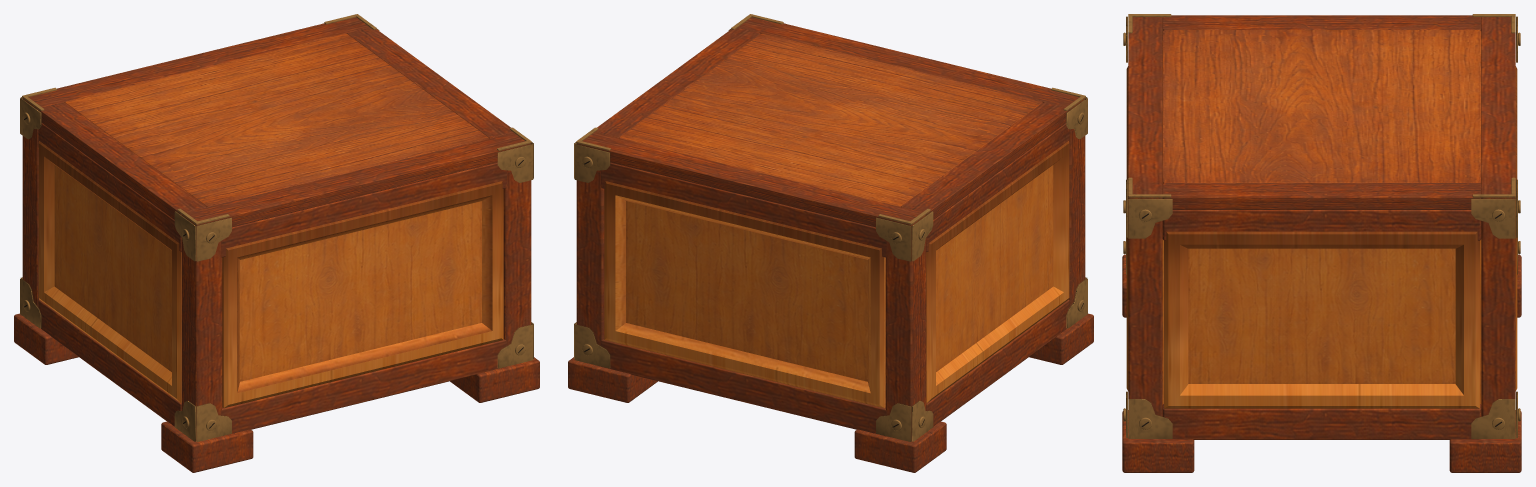
The model's file is chapter3_support_box_pbr.glb.
3 renders of one model, left to right at view 1: azimuth 30°, elevation 25°; view 2: azimuth 150°, elevation 25°; view 3: azimuth 270°, elevation 25°, orthographic. The views are drawn at different scales.
Visible parts, largest first — view 1: InsetPanels_panel, Top_top, TimberFrame_frame, PanelMoldings_molding, Top_frame, CopperProtectors_copper, Feet_frame, Screws_copper; view 2: InsetPanels_panel, Top_top, TimberFrame_frame, PanelMoldings_molding, Top_frame, CopperProtectors_copper, Feet_frame, Screws_copper; view 3: Top_top, InsetPanels_panel, TimberFrame_frame, Top_frame, PanelMoldings_molding, CopperProtectors_copper, Feet_frame, Screws_copper, Body_panel.
Boxes of the visible parts, box(x1,y1,x2,y2) form: InsetPanels_panel: box(54, 165, 481, 381); Top_top: box(65, 33, 488, 206); TimberFrame_frame: box(22, 123, 531, 440); PanelMoldings_molding: box(38, 141, 503, 408); Top_frame: box(22, 17, 531, 234); CopperProtectors_copper: box(20, 14, 533, 441); Feet_frame: box(14, 313, 539, 472); Screws_copper: box(23, 112, 525, 430); InsetPanels_panel: box(626, 165, 1053, 381); Top_top: box(619, 33, 1042, 206); TimberFrame_frame: box(576, 123, 1085, 440); PanelMoldings_molding: box(604, 141, 1069, 408); Top_frame: box(576, 17, 1085, 234); CopperProtectors_copper: box(574, 14, 1087, 441); Feet_frame: box(568, 313, 1093, 472); Screws_copper: box(582, 112, 1084, 430); Top_top: box(1162, 30, 1481, 183); InsetPanels_panel: box(1188, 248, 1455, 383); TimberFrame_frame: box(1128, 210, 1515, 439); Top_frame: box(1128, 15, 1515, 209); PanelMoldings_molding: box(1126, 66, 1517, 408); CopperProtectors_copper: box(1126, 14, 1517, 438); Feet_frame: box(1122, 254, 1521, 472); Screws_copper: box(1123, 32, 1520, 429); Body_panel: box(1162, 239, 1481, 404).
Size of the model in its own units: 0.311 by 0.2111 by 0.278.
6 materials, 6 textured.
